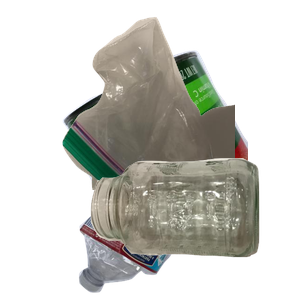glass: (88, 156, 300, 300)
metal: (60, 48, 300, 228)
plastic: (76, 131, 280, 300)
trash: (60, 14, 300, 194)
